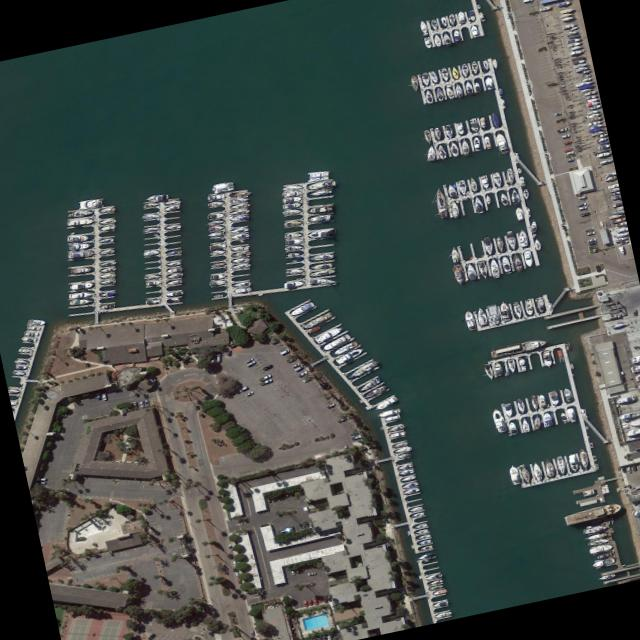ship: (563, 500, 624, 526), (489, 336, 548, 359), (347, 358, 380, 379), (314, 324, 345, 344), (302, 311, 334, 330), (321, 333, 352, 352), (335, 345, 365, 364), (433, 186, 450, 219), (332, 339, 360, 356), (288, 300, 316, 317), (491, 407, 508, 434), (374, 395, 399, 411), (358, 377, 383, 392), (363, 384, 387, 399), (451, 263, 467, 285), (211, 179, 236, 193), (306, 169, 332, 182), (495, 130, 509, 154), (462, 309, 477, 331), (307, 228, 337, 239), (507, 463, 521, 485), (498, 299, 511, 322), (486, 304, 500, 325), (554, 454, 568, 475), (581, 523, 607, 534), (310, 276, 338, 286), (78, 198, 103, 209), (488, 257, 501, 278), (543, 459, 557, 478), (589, 543, 613, 554), (307, 180, 333, 190), (511, 252, 524, 272), (532, 461, 544, 482), (476, 307, 489, 326), (67, 217, 94, 226), (477, 259, 489, 279), (517, 227, 529, 247), (307, 205, 333, 214), (68, 249, 94, 258), (69, 290, 95, 299), (579, 448, 590, 469), (378, 407, 401, 417), (592, 557, 615, 567), (504, 166, 516, 185), (586, 531, 608, 541), (500, 254, 512, 272), (466, 262, 478, 280), (482, 362, 494, 380), (70, 281, 94, 290), (520, 465, 532, 483), (450, 199, 461, 218), (568, 453, 579, 472), (307, 214, 333, 222), (309, 268, 335, 276), (459, 137, 471, 154), (472, 195, 484, 212), (309, 253, 334, 261), (542, 350, 553, 368), (588, 537, 610, 546), (618, 411, 640, 420), (468, 117, 480, 133), (489, 111, 501, 127), (506, 357, 518, 373), (72, 209, 93, 218), (449, 140, 460, 157), (425, 144, 436, 161), (409, 74, 420, 91), (535, 296, 546, 313), (449, 246, 460, 263), (483, 238, 494, 255), (146, 193, 169, 201), (443, 123, 455, 138), (523, 249, 533, 267), (507, 232, 517, 250), (614, 395, 634, 404), (418, 18, 429, 34), (424, 572, 443, 581), (510, 188, 520, 205), (457, 179, 467, 196), (495, 236, 505, 253), (69, 298, 93, 305), (67, 234, 88, 242), (69, 242, 90, 250), (70, 266, 91, 274), (422, 128, 433, 143), (446, 183, 457, 198), (493, 361, 504, 376), (563, 387, 574, 402), (549, 390, 560, 405), (432, 32, 443, 47), (542, 411, 553, 426), (566, 407, 577, 422), (524, 297, 533, 315), (437, 143, 447, 159), (472, 135, 482, 151), (282, 195, 302, 203), (492, 171, 502, 187), (515, 205, 525, 221), (521, 417, 531, 433), (310, 189, 332, 196), (311, 262, 333, 269), (508, 420, 519, 434), (513, 302, 522, 319), (282, 201, 301, 209), (283, 189, 302, 197), (285, 237, 304, 245), (231, 250, 250, 258), (484, 75, 494, 90), (464, 79, 474, 94), (454, 83, 464, 98), (445, 85, 455, 100), (504, 402, 514, 417), (229, 208, 250, 215), (231, 190, 252, 197), (284, 280, 305, 287), (425, 88, 434, 104), (207, 199, 225, 207), (207, 218, 225, 226), (231, 244, 249, 252), (234, 286, 252, 294), (417, 551, 435, 559), (402, 487, 420, 495), (387, 424, 405, 432), (433, 126, 443, 140), (483, 135, 493, 149), (282, 184, 302, 191), (516, 398, 526, 412), (230, 202, 250, 209), (229, 196, 249, 203), (231, 262, 251, 269), (532, 415, 542, 429), (210, 248, 227, 256), (435, 610, 452, 618), (402, 481, 419, 489), (389, 430, 406, 438), (432, 600, 449, 608), (575, 79, 592, 87), (568, 48, 585, 56), (435, 86, 444, 101), (480, 174, 489, 189), (469, 177, 478, 192), (625, 427, 640, 436), (282, 208, 301, 215), (284, 220, 303, 227), (206, 193, 225, 200), (230, 226, 249, 233), (284, 244, 303, 251), (230, 232, 249, 239), (233, 280, 252, 287), (208, 279, 227, 286), (450, 66, 460, 79), (470, 24, 480, 37), (608, 212, 624, 220), (428, 583, 444, 591), (456, 121, 465, 135), (421, 72, 430, 86), (440, 67, 449, 81), (500, 191, 509, 205), (518, 358, 527, 372), (457, 9, 466, 23), (447, 12, 456, 26), (423, 35, 432, 49), (533, 237, 542, 251), (142, 225, 160, 232), (530, 395, 539, 409), (394, 446, 412, 453), (539, 393, 547, 408), (229, 215, 249, 221), (401, 474, 416, 482), (145, 297, 162, 304), (209, 242, 226, 249), (207, 212, 224, 219), (208, 224, 225, 231), (208, 230, 225, 237), (142, 212, 159, 219), (164, 198, 181, 205), (144, 273, 161, 280), (145, 279, 162, 286), (396, 463, 413, 470), (599, 573, 616, 580), (470, 61, 479, 74), (442, 31, 451, 44), (529, 220, 538, 233), (284, 232, 303, 238), (27, 319, 46, 325), (461, 63, 469, 77), (288, 267, 304, 274), (210, 273, 226, 280), (560, 6, 574, 14), (408, 505, 424, 512), (392, 441, 408, 448), (573, 65, 589, 72), (610, 321, 626, 328), (166, 290, 184, 296), (166, 272, 184, 278), (232, 257, 250, 263), (167, 266, 182, 273), (614, 235, 629, 242), (561, 22, 576, 29), (566, 37, 581, 44), (433, 588, 448, 595), (399, 468, 414, 475), (385, 414, 400, 421), (567, 40, 582, 47), (588, 126, 603, 133), (586, 119, 601, 126), (585, 111, 600, 118), (596, 150, 611, 157), (577, 83, 592, 90), (573, 61, 588, 68), (430, 70, 438, 83), (595, 131, 608, 139), (100, 290, 117, 296), (99, 260, 116, 266), (100, 218, 117, 224), (163, 205, 180, 211), (143, 249, 160, 255), (477, 10, 486, 21), (612, 216, 626, 223), (558, 11, 572, 18), (429, 578, 443, 585), (418, 538, 432, 545), (590, 129, 604, 136), (589, 122, 603, 129), (587, 115, 601, 122), (582, 89, 596, 96), (580, 86, 594, 93), (572, 58, 586, 65), (599, 158, 613, 165), (522, 188, 530, 200), (468, 9, 476, 21), (430, 18, 438, 30), (453, 29, 461, 41), (99, 303, 115, 309), (100, 279, 116, 285), (100, 266, 116, 272), (98, 237, 114, 243), (100, 207, 116, 213), (210, 261, 226, 267), (166, 279, 182, 285), (539, 4, 552, 11), (588, 103, 601, 110), (100, 273, 115, 279), (100, 225, 115, 231), (166, 260, 181, 266), (165, 224, 180, 230), (144, 201, 159, 207), (630, 418, 640, 427), (518, 175, 526, 186), (440, 16, 448, 27), (21, 336, 38, 341), (23, 331, 40, 336), (166, 249, 183, 254), (557, 0, 571, 6), (411, 511, 425, 517), (417, 533, 431, 539), (415, 528, 429, 534), (414, 523, 428, 529), (397, 452, 411, 458), (17, 348, 33, 353), (561, 15, 574, 21), (565, 29, 578, 35), (586, 100, 599, 106), (595, 136, 608, 142), (586, 108, 599, 114), (584, 93, 597, 99), (474, 81, 481, 92), (100, 249, 115, 254), (13, 359, 28, 364), (11, 370, 26, 375), (421, 544, 433, 550), (570, 44, 582, 50), (479, 117, 486, 127), (485, 194, 492, 204), (482, 59, 489, 69), (491, 58, 498, 68), (287, 251, 301, 256), (618, 244, 625, 254), (630, 509, 640, 516), (311, 325, 320, 332), (15, 364, 27, 369), (26, 325, 41, 329), (561, 411, 567, 421), (586, 97, 598, 102), (213, 293, 223, 298), (598, 220, 605, 227), (633, 484, 640, 490), (69, 230, 76, 235), (152, 232, 159, 237), (505, 229, 512, 234), (517, 166, 522, 173), (476, 3, 481, 9), (331, 180, 336, 185)
small-vehicle: (259, 373, 272, 381), (262, 363, 273, 371), (260, 378, 272, 385), (350, 433, 362, 440), (298, 369, 308, 377), (245, 360, 256, 367), (278, 348, 289, 355), (325, 402, 336, 409), (337, 416, 348, 423), (238, 385, 248, 392), (147, 633, 157, 640), (286, 356, 297, 362), (95, 391, 102, 400), (290, 362, 300, 368), (293, 365, 303, 371), (586, 230, 596, 236), (564, 146, 574, 152), (556, 127, 568, 132), (101, 392, 108, 400), (138, 399, 145, 407), (312, 597, 319, 605), (245, 357, 254, 363), (302, 376, 311, 382), (589, 240, 599, 245), (587, 237, 597, 242), (563, 140, 573, 145), (595, 265, 602, 272), (299, 523, 306, 530), (322, 596, 329, 603), (132, 400, 138, 408), (245, 390, 253, 396), (227, 543, 233, 551), (302, 599, 308, 607), (626, 465, 632, 473), (566, 150, 575, 155), (580, 211, 589, 216), (562, 133, 571, 138), (302, 506, 309, 512), (285, 527, 291, 534), (290, 526, 296, 533), (621, 466, 627, 473), (631, 464, 637, 471), (280, 527, 285, 535), (343, 444, 349, 450), (58, 413, 67, 417), (578, 205, 587, 209), (307, 572, 316, 576), (327, 634, 333, 640), (144, 399, 149, 406), (235, 571, 240, 578), (237, 577, 242, 584), (250, 629, 255, 636), (307, 521, 312, 528), (633, 309, 638, 316), (522, 0, 533, 3), (216, 353, 220, 361), (578, 195, 586, 199), (566, 157, 574, 161), (227, 350, 232, 356), (232, 560, 237, 566), (577, 202, 587, 205), (290, 568, 295, 574), (309, 599, 314, 605), (553, 112, 561, 115), (322, 636, 328, 640), (635, 448, 640, 451), (318, 637, 323, 640)
